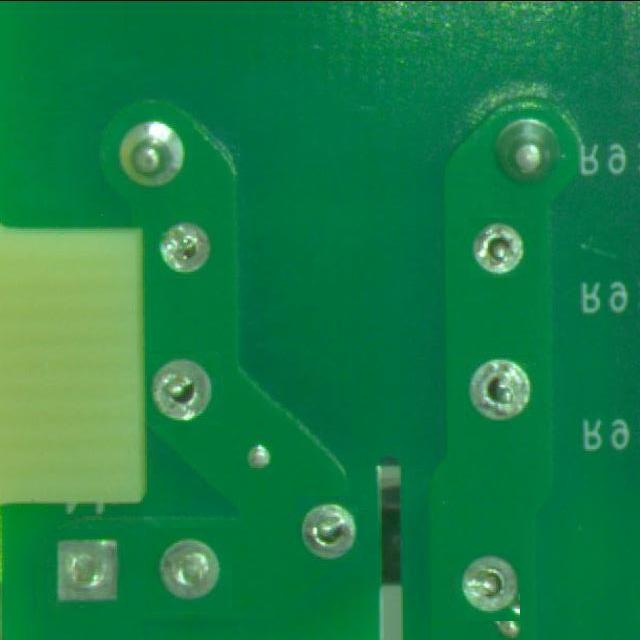lack_of_part: (148, 529, 231, 613), (46, 529, 127, 610), (149, 352, 220, 424), (464, 356, 540, 422), (453, 554, 520, 621), (295, 497, 360, 561), (468, 217, 529, 278), (156, 220, 213, 278)
